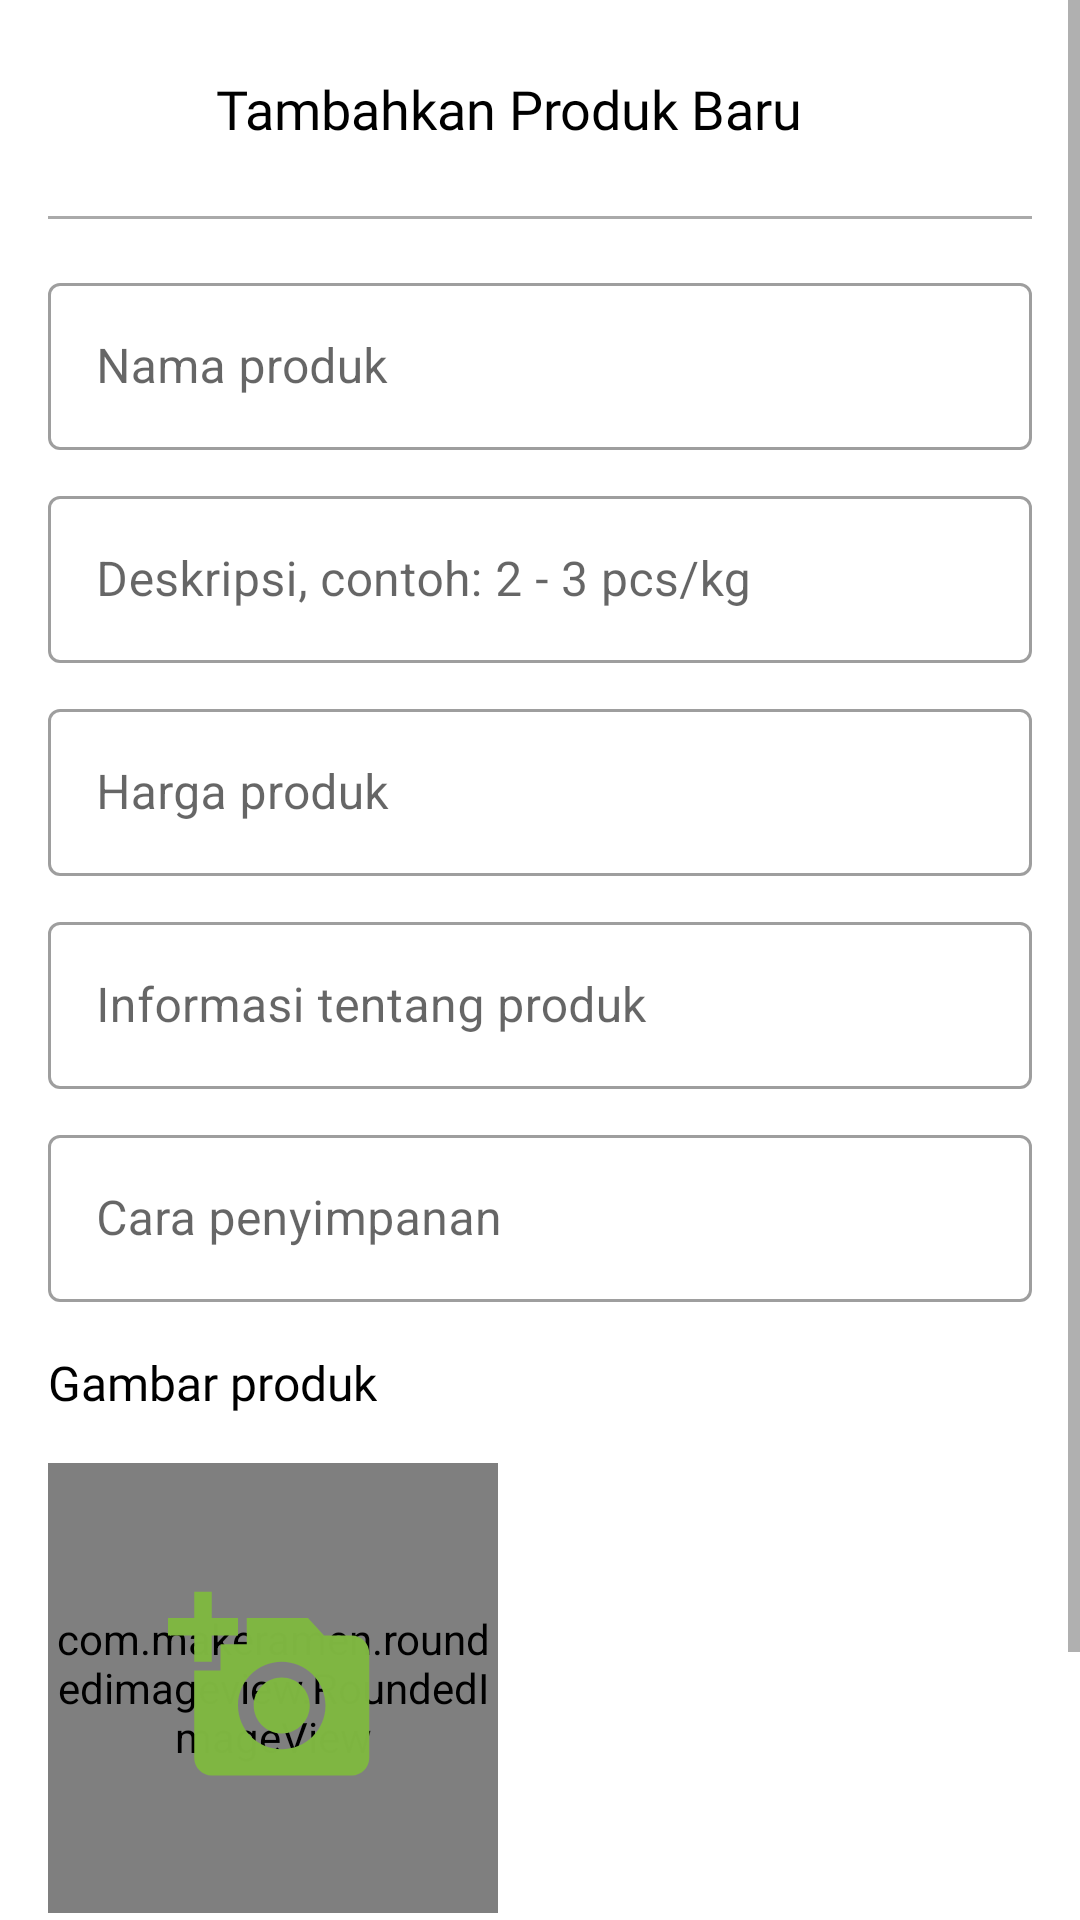

Named icons in this screenshot (1080*1920) and their centers, (x,y):
add photo: (273,1684)
